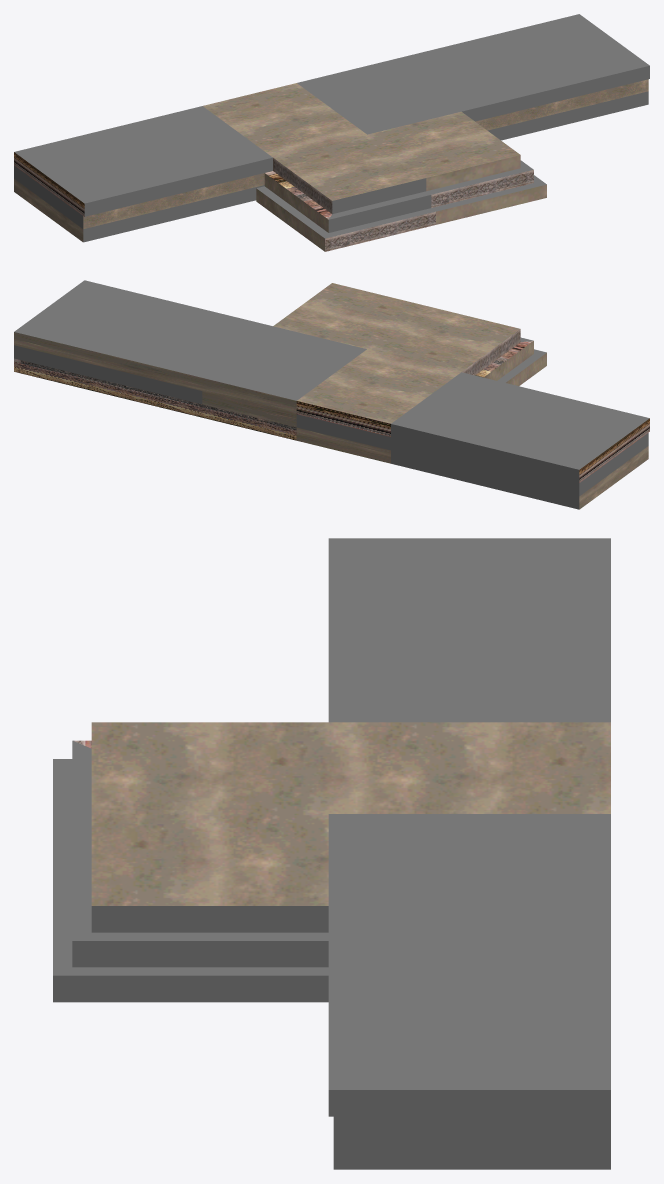
The model's file is Floor1.fbx.
3 views of the same model, one above another, from view 1: azimuth 30°, elevation 25°; view 2: azimuth 150°, elevation 25°; view 3: azimuth 270°, elevation 25° (orthographic). The views are drawn at different scales.
Visible parts, largest first — view 1: Box154; view 2: Box154; view 3: Box154.
Part boxes in pixels (<box>): Box154: <box>14,14,649,251</box>; Box154: <box>14,280,649,509</box>; Box154: <box>53,538,610,1169</box>.
Size of the model in its own units: 2546 by 171 by 1087.
